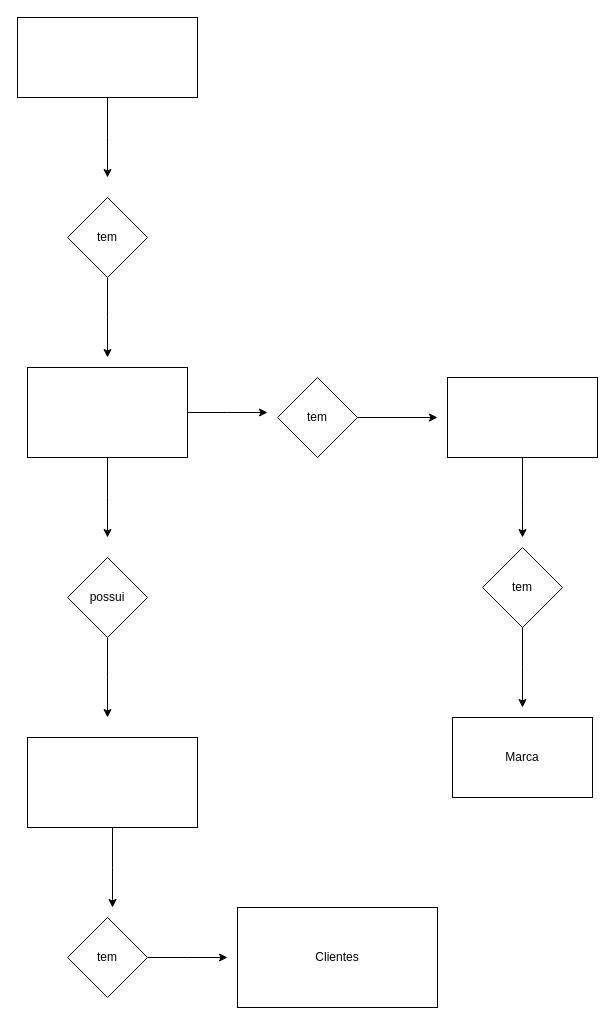
Some shapes in this 615 by 1025 pixel diagram are drawn without their labels. Here are the shapes that lost their labels. From the top down, the centre of each, then its label:
At (x=107, y=57): "Empresa".
At (x=107, y=412): "Veiculos".
At (x=522, y=417): "Modelo".
At (x=112, y=782): "Atendimento".
